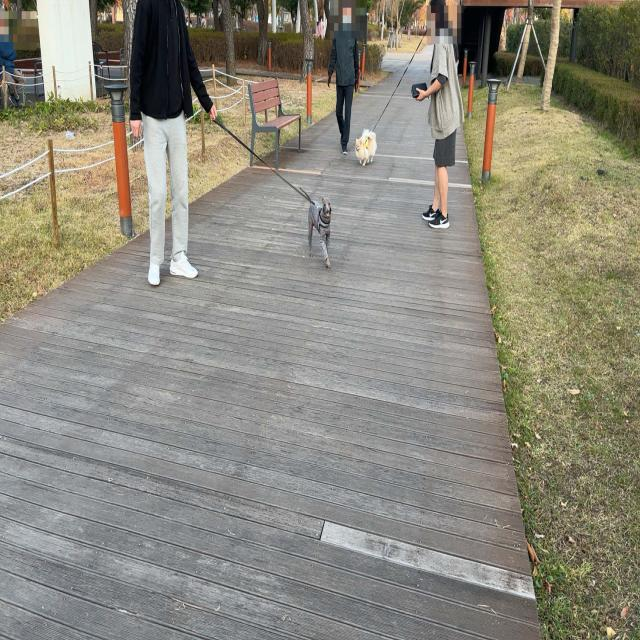Leashed_Dog: (182, 99, 332, 272), (354, 22, 444, 168)
